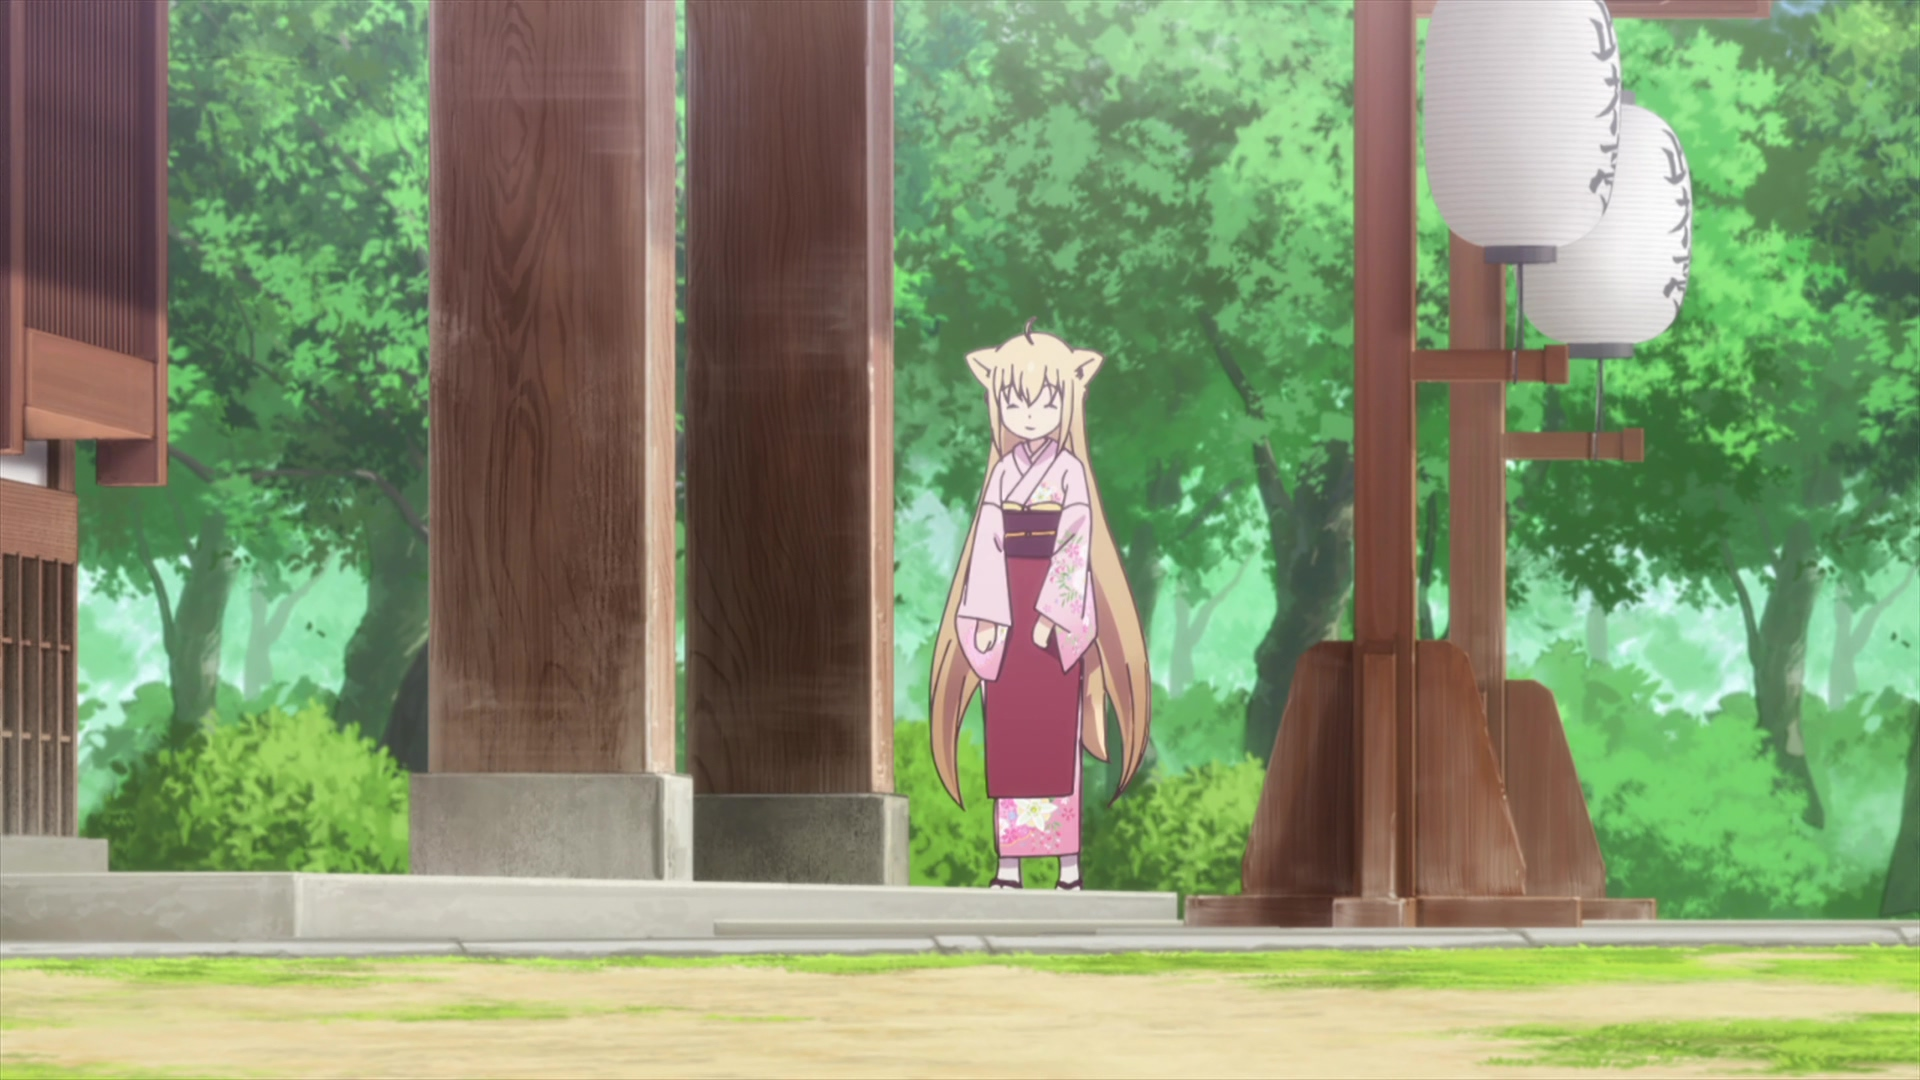柚: (928, 316, 1149, 891)
